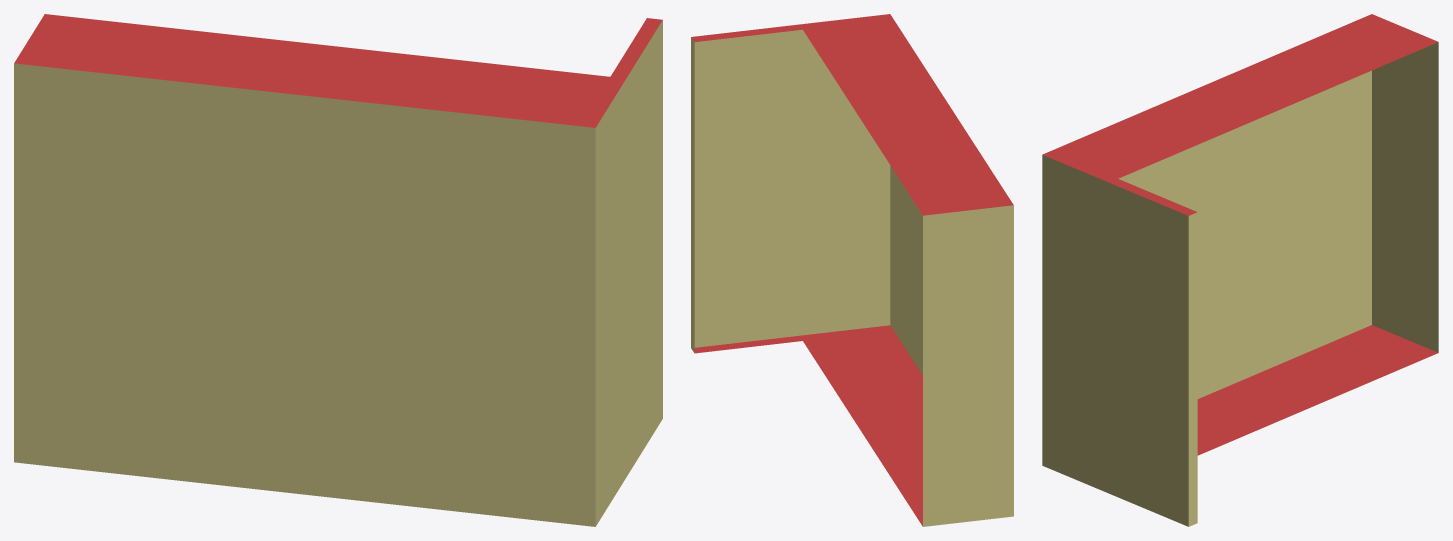
The picture shows the model from 3 angles, left to right: view 1: azimuth 30°, elevation 25°; view 2: azimuth 150°, elevation 25°; view 3: azimuth 270°, elevation 25°; orthographic projection. The views are drawn at different scales.
Size of the model in its own units: 9.37 by 7.77 by 6.72.
